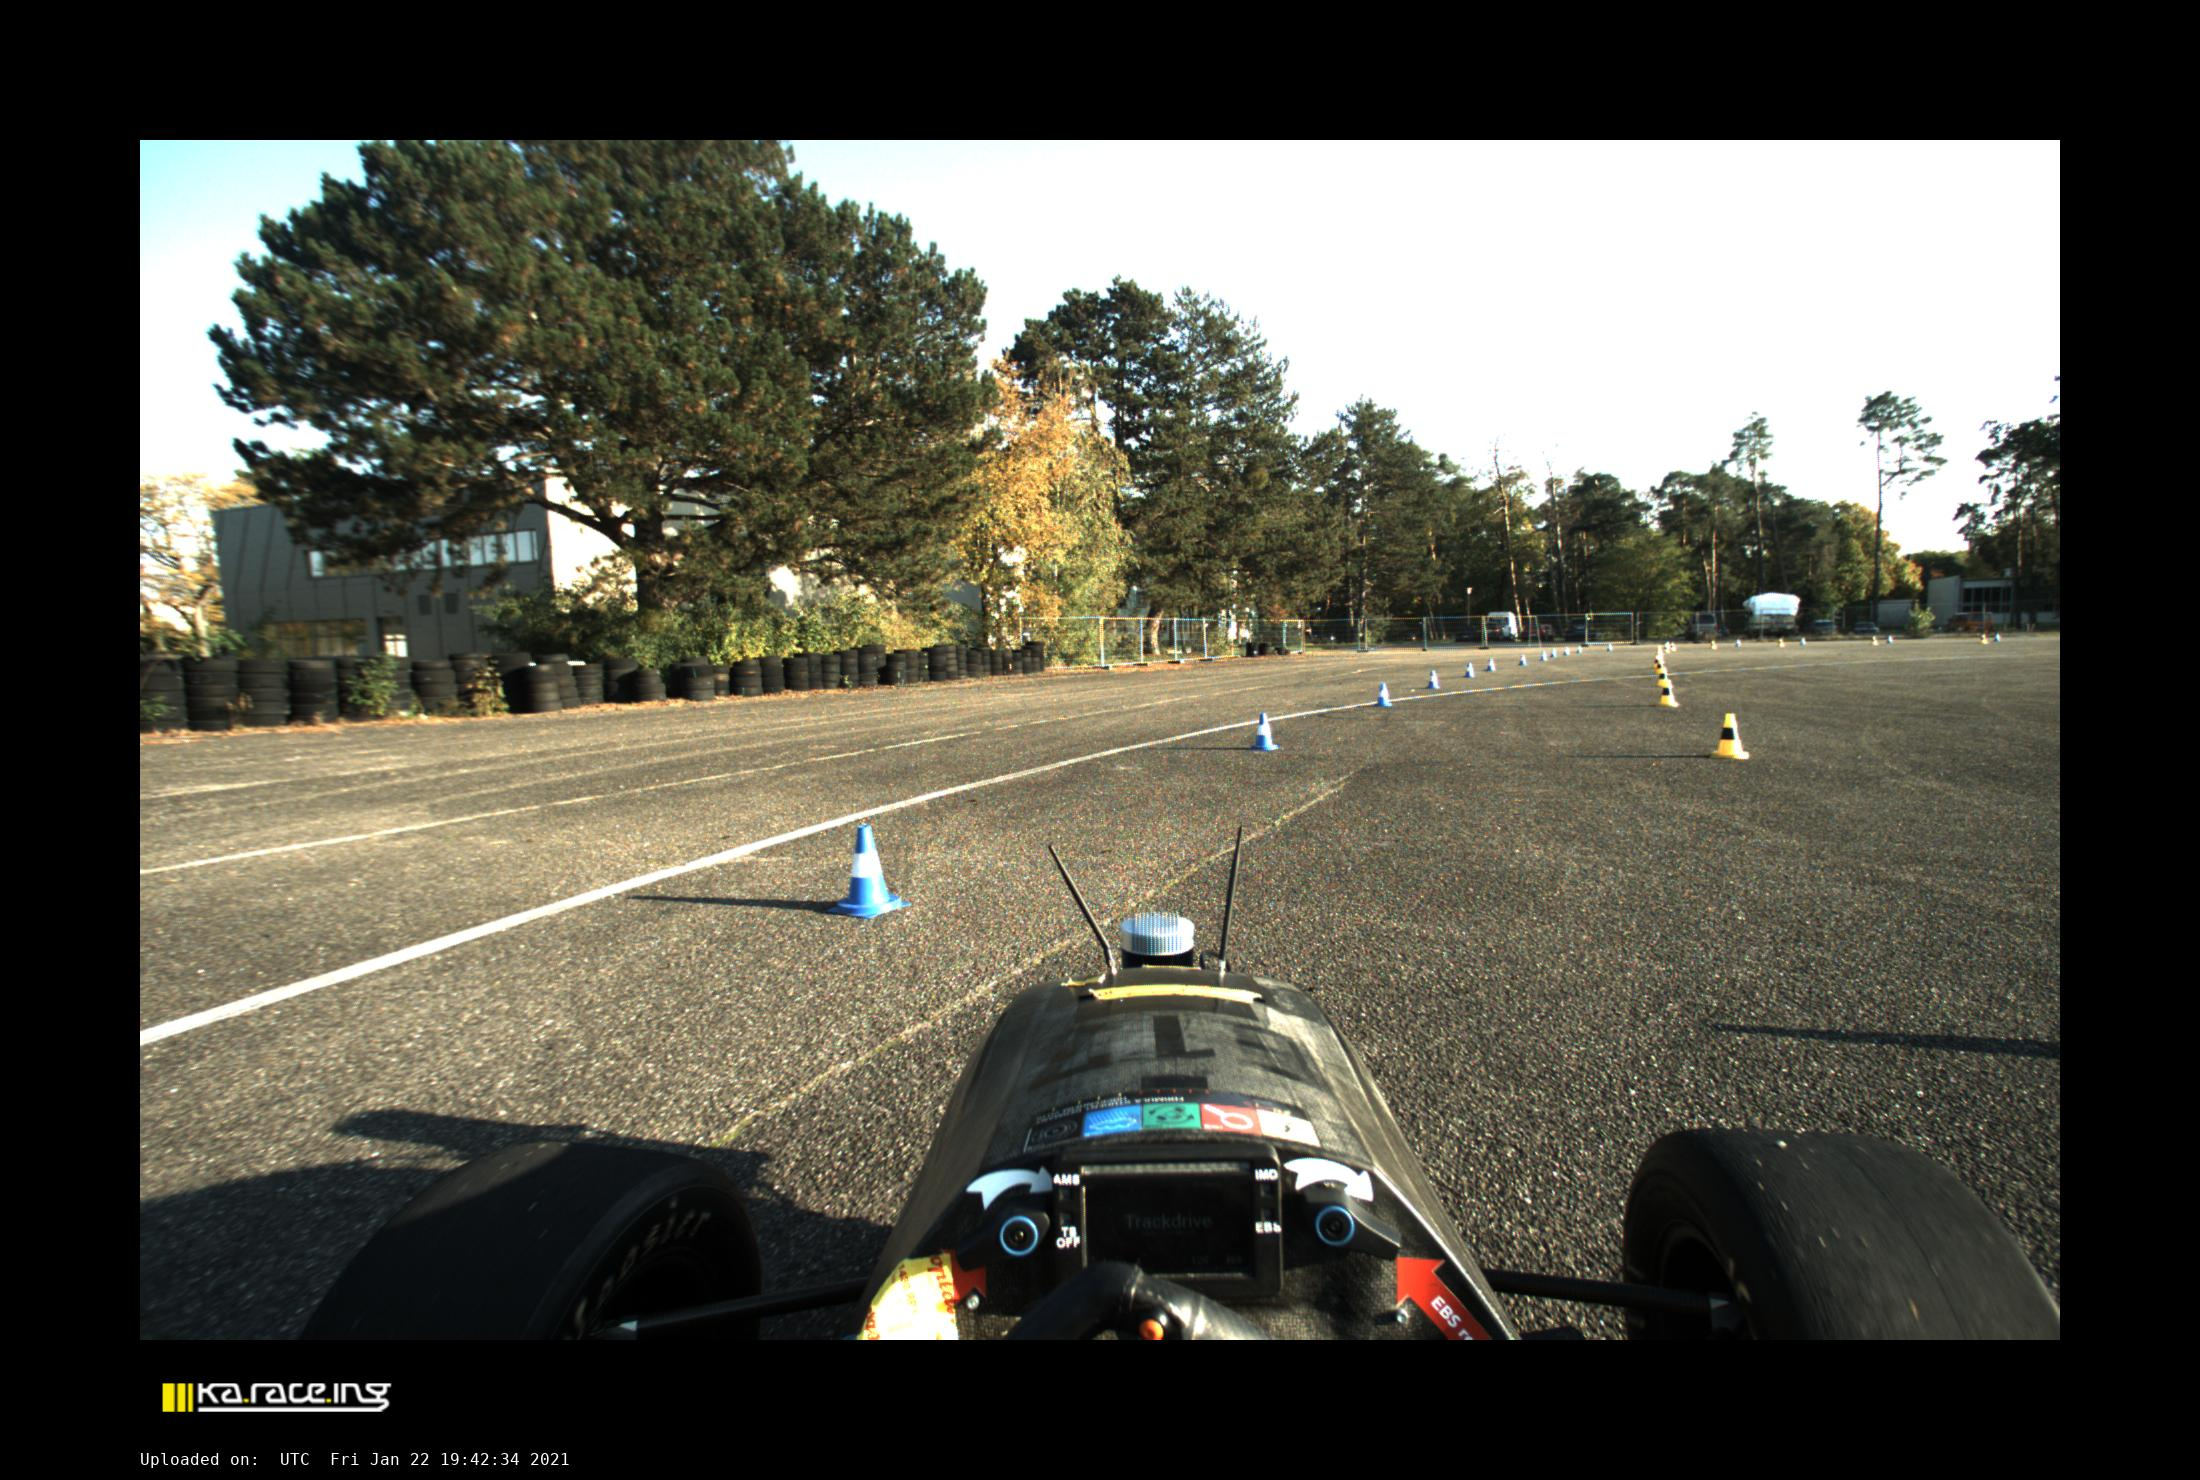blue_cone: (829, 826, 910, 917), (1250, 714, 1278, 750), (1374, 682, 1392, 707), (1425, 671, 1440, 689), (1463, 662, 1477, 677), (1483, 657, 1496, 671), (1518, 654, 1528, 666), (1539, 651, 1548, 661), (1549, 647, 1558, 657), (1562, 646, 1571, 656), (1734, 638, 1742, 647), (1886, 634, 1894, 644), (1605, 643, 1614, 651), (1799, 638, 1807, 646), (1994, 633, 2002, 641), (1576, 644, 1582, 654)
yellow_cone: (1711, 714, 1749, 758), (1658, 679, 1680, 705), (1657, 667, 1671, 685), (1979, 633, 1990, 644), (1870, 634, 1880, 646), (1657, 661, 1665, 672), (1657, 644, 1663, 657), (1709, 639, 1718, 649), (1777, 638, 1784, 647), (1653, 654, 1658, 667), (1670, 641, 1676, 651), (1663, 644, 1670, 652)
